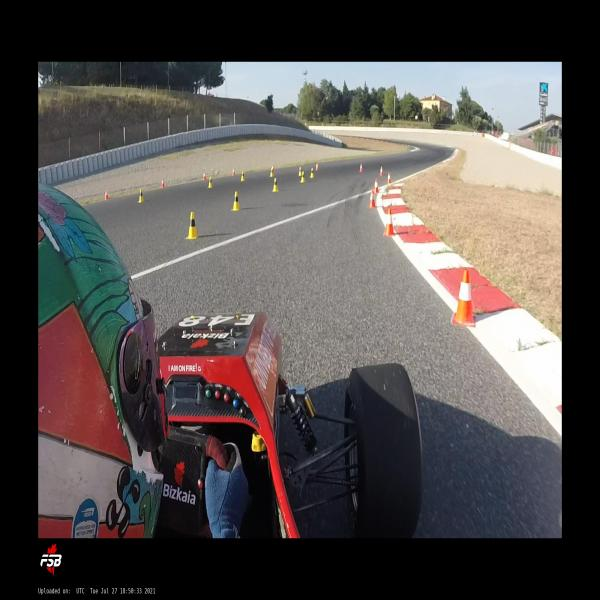orange_cone: (451, 269, 476, 327), (383, 208, 395, 235), (369, 189, 376, 208), (374, 178, 379, 193), (104, 188, 110, 200), (160, 178, 165, 188), (387, 172, 391, 184), (380, 166, 384, 176), (231, 168, 236, 176), (359, 163, 363, 172), (315, 162, 319, 171), (202, 172, 206, 180), (272, 165, 274, 172)
yellow_cone: (185, 212, 198, 240), (232, 191, 240, 210), (272, 177, 278, 192), (138, 189, 144, 203), (240, 170, 245, 182), (300, 171, 305, 183), (208, 176, 212, 189), (310, 167, 314, 178), (270, 167, 274, 177), (298, 166, 302, 176)
